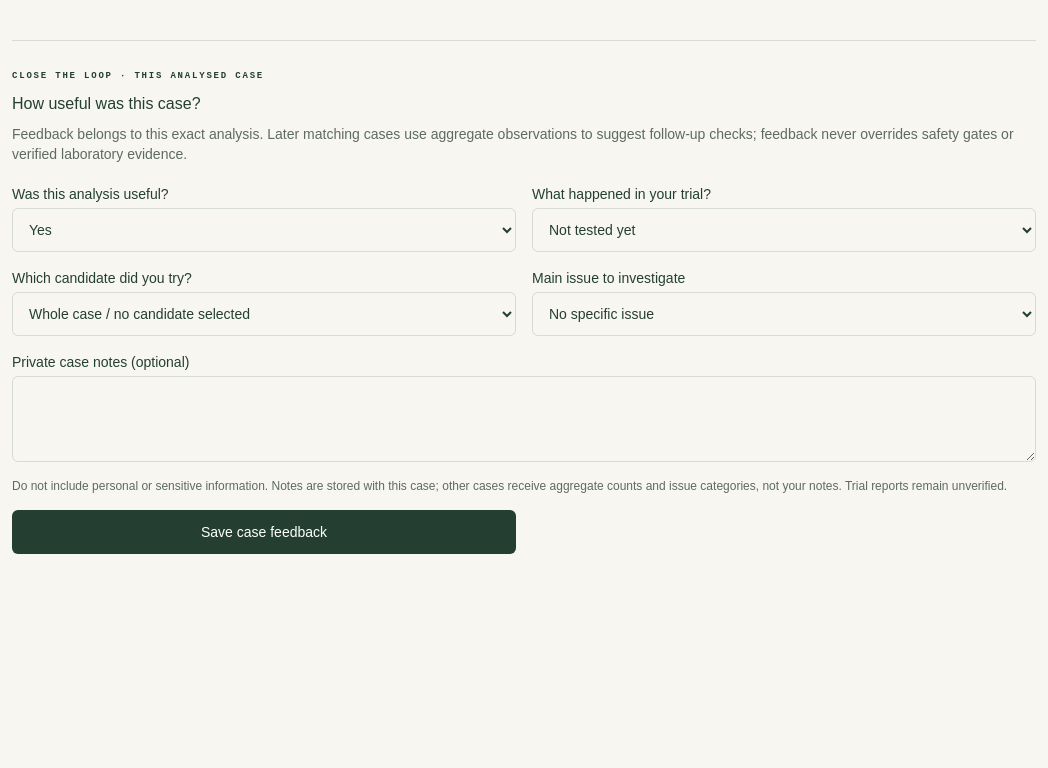
Test case: submits feedback for the exact case and confirms only a successful database receipt
Select "Texture / expansion" in the dropdown labelled "Main issue to investigate" at (784, 314), box [532,292,1036,336]
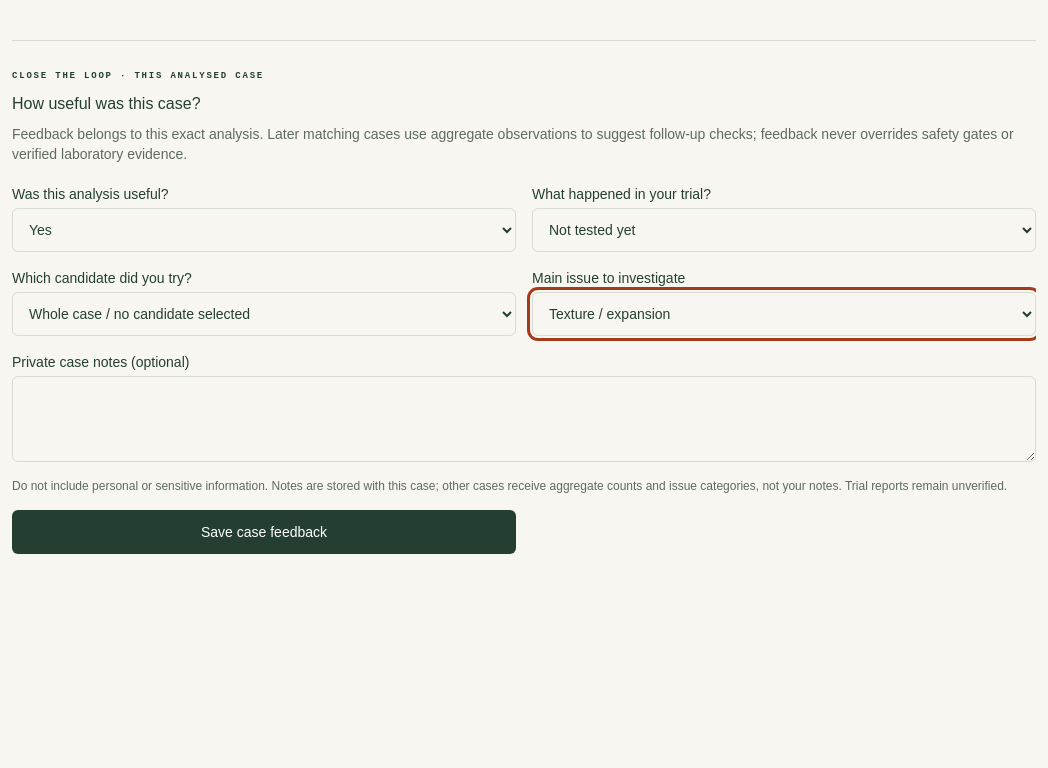
Type "Trial needs texture validation" into the text box labelled "Private case notes (optional)".
click(524, 419); type("Trial needs texture validation")  # box [12,376,1036,462]
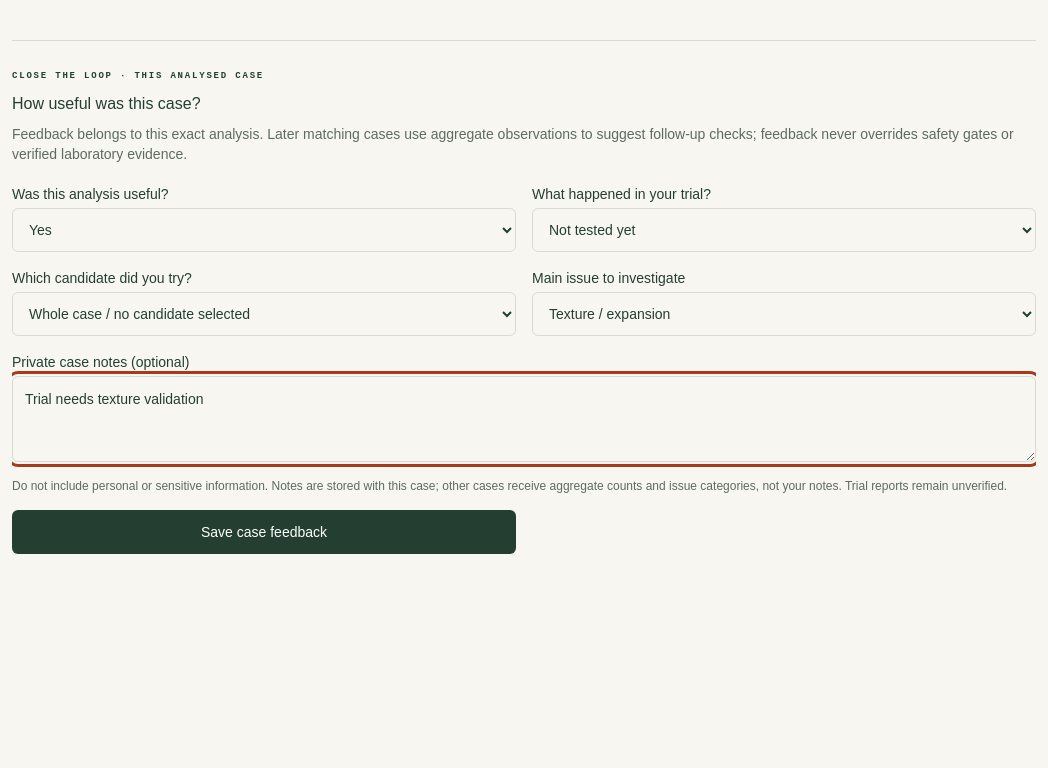
Click the button "Save case feedback".
click(264, 532)  # box [12,510,516,554]
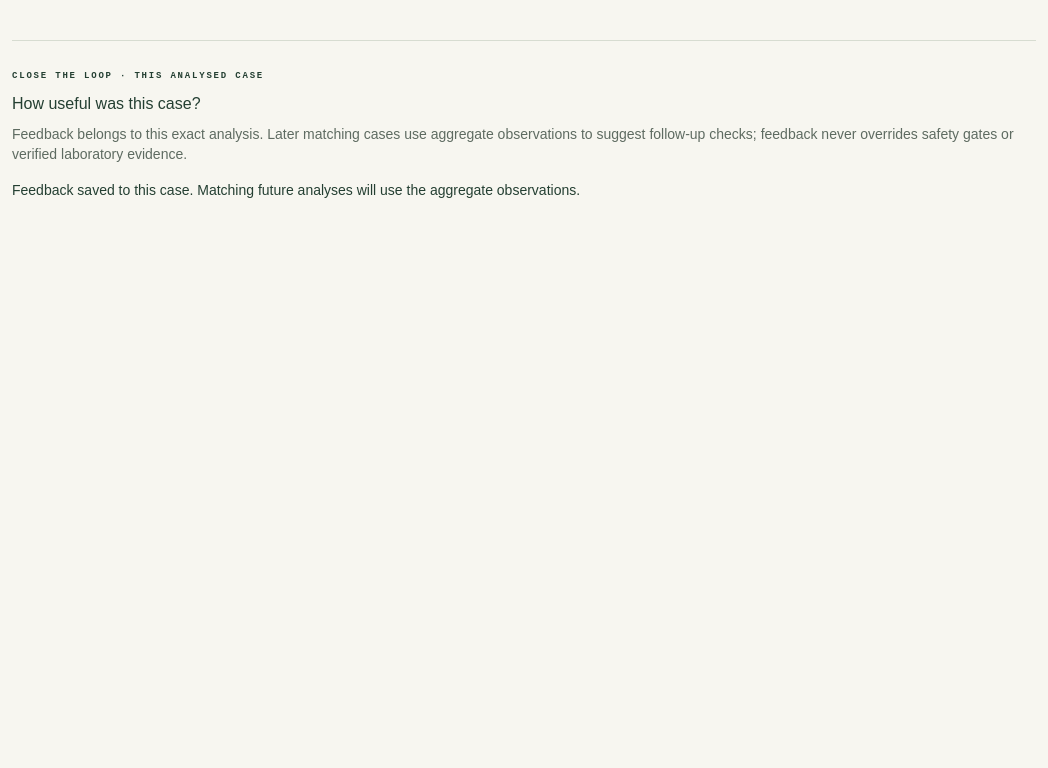
Check: the text "Feedback saved to this case" is shown, box [12,182,580,198]
